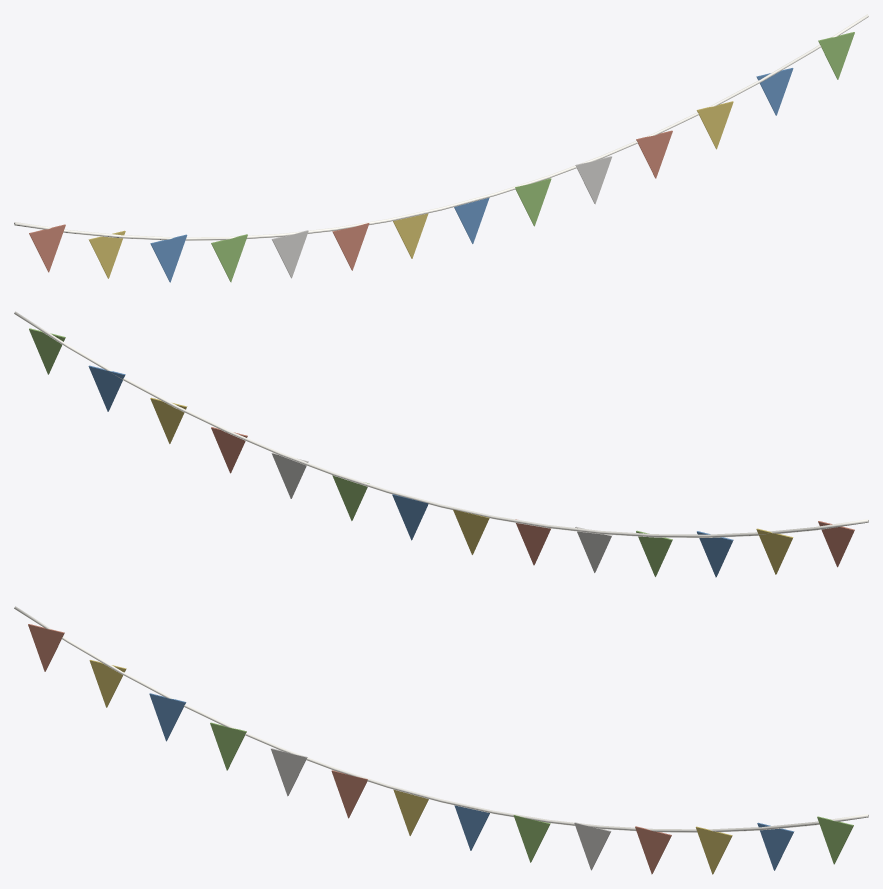
File: bunting.glb
3 renders of one model, top to bottom at view 1: azimuth 30°, elevation 25°; view 2: azimuth 150°, elevation 25°; view 3: azimuth 330°, elevation 25°, orthographic.
Visible parts, largest first — view 1: Bunting_Flags, Bunting_Cord; view 2: Bunting_Flags, Bunting_Cord; view 3: Bunting_Flags, Bunting_Cord.
Part boxes in pixels (bbox=[...]): Bunting_Flags: bbox=[29, 32, 854, 282]; Bunting_Cord: bbox=[14, 14, 868, 240]; Bunting_Flags: bbox=[29, 328, 854, 577]; Bunting_Cord: bbox=[14, 311, 868, 537]; Bunting_Flags: bbox=[28, 624, 853, 874]; Bunting_Cord: bbox=[14, 606, 868, 832].
Size of the model in its own units: 8.01 by 1.19 by 0.05.
